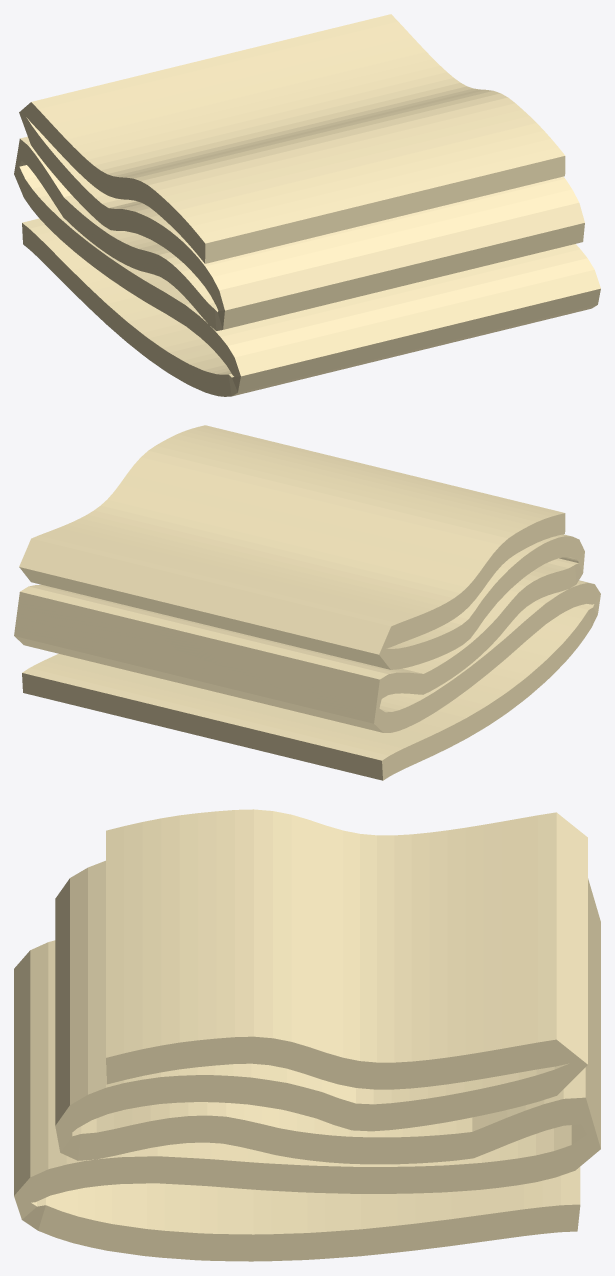
The model's file is tela.fbx.
3 renders of one model, top to bottom at view 1: azimuth 30°, elevation 25°; view 2: azimuth 150°, elevation 25°; view 3: azimuth 270°, elevation 25°, orthographic. The views are drawn at different scales.
Parts seen in each view (by area): view 1: Cube; view 2: Cube; view 3: Cube.
Boxes of the visible parts, <box> form: Cube: <box>14,14,600,396</box>; Cube: <box>14,425,600,780</box>; Cube: <box>14,809,600,1261</box>.
Size of the model in its own units: 0.4078 by 0.1869 by 0.4421.
